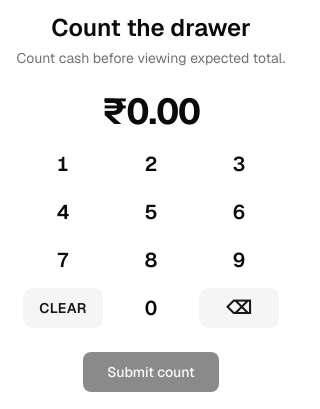
Scenario: CloseShiftScreen - blind count › blocks submission until an amount has been counted
Expected: the button with test id "blind-count-submit" is disabled, [83,352,219,392]
Click the button with test id "blind-count-digit-0": x=151, y=308 [111,288,191,328]
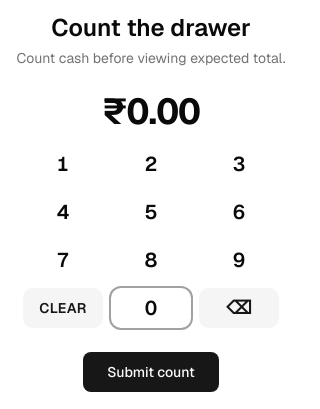
Result: the button with test id "blind-count-submit" is enabled at [83,352,219,392]
